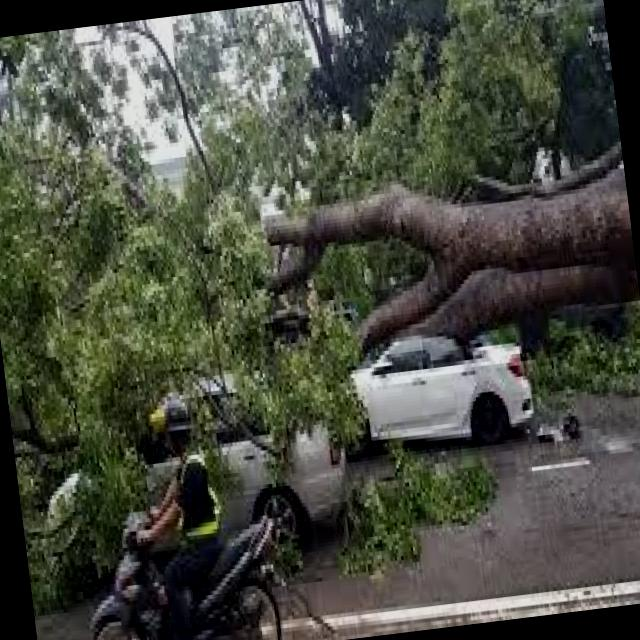fallen_object: (131, 145, 640, 406)
